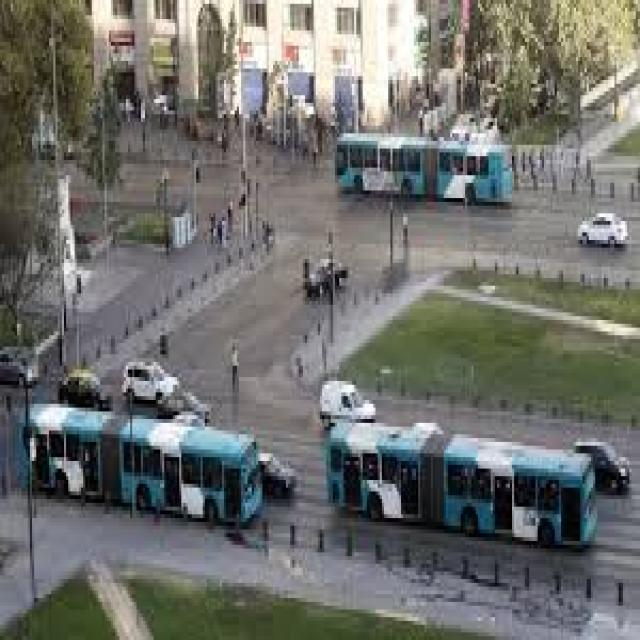AB: (322, 415, 600, 556), (11, 400, 262, 530), (335, 126, 518, 213)
